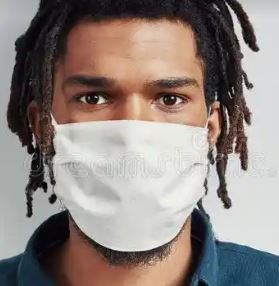with_facemask: (53, 116, 211, 249)
